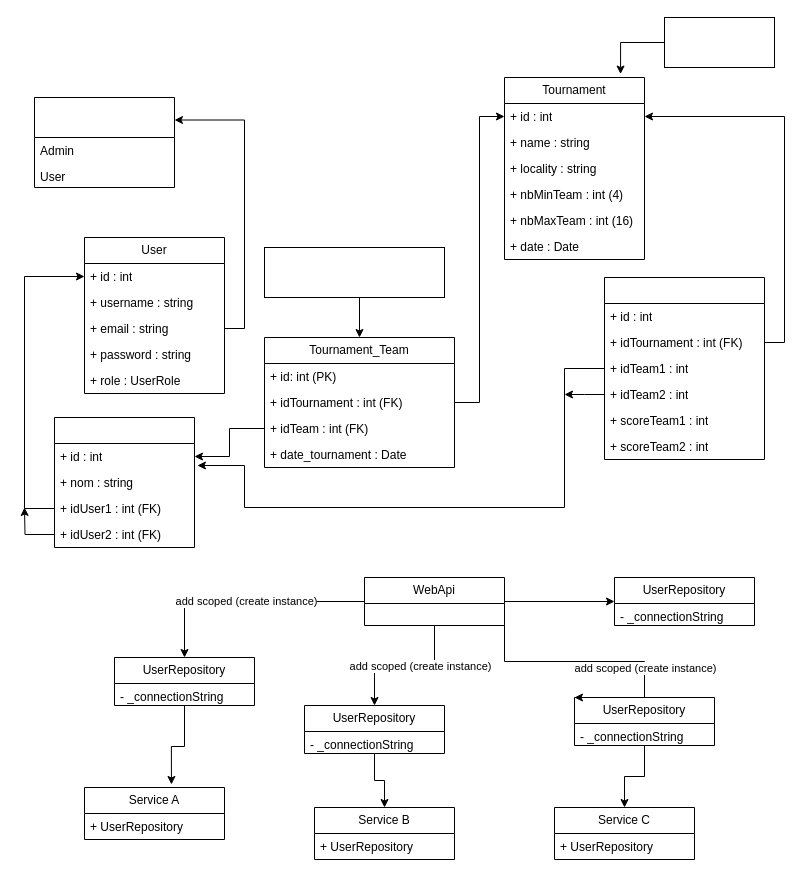
This 810x880 diagram has some shape labels left out. Here are the shapes that lost their labels. From the top down, the box of each, then its label:
(664, 16, 774, 68): 4 - 8 - 12 - 16 équipe pour faire un tournoi
(34, 96, 174, 188): UserRole <<enum>>
(264, 246, 444, 298): UNIQUE (idTournament, idTeam)
(604, 276, 764, 460): Match
(54, 416, 194, 548): Team
